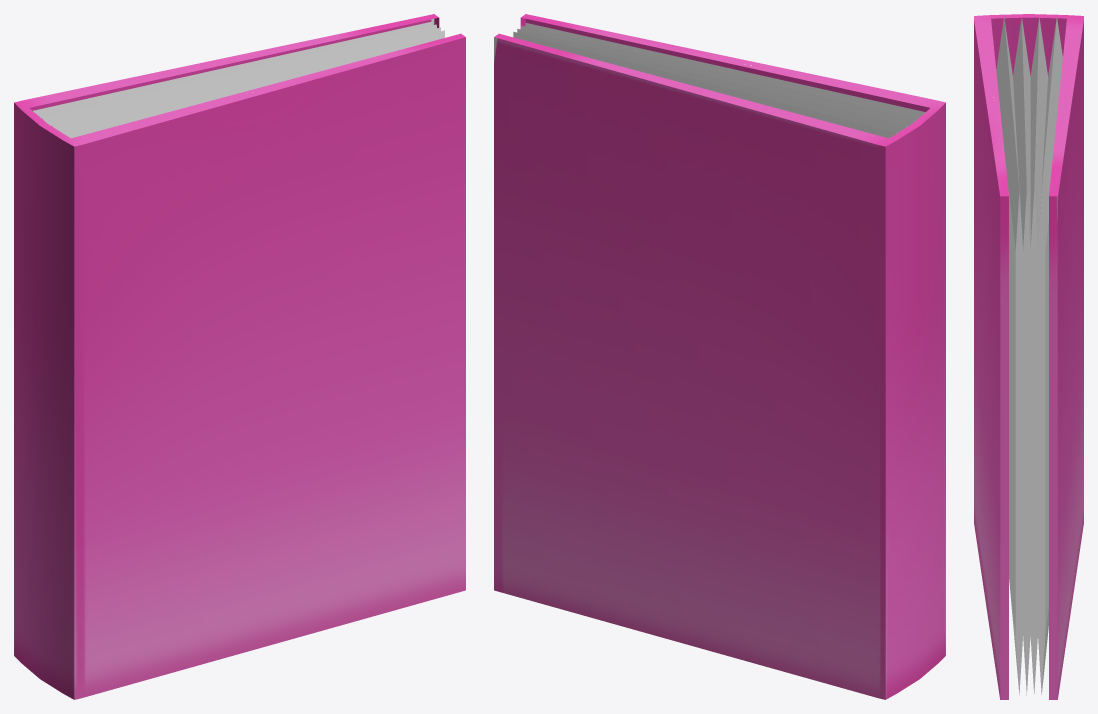
File: Book0.FBX
3 renders of one model, left to right at view 1: azimuth 30°, elevation 25°; view 2: azimuth 150°, elevation 25°; view 3: azimuth 270°, elevation 25°, orthographic. The views are drawn at different scales.
Visible parts, largest first — view 1: Box004; view 2: Box004; view 3: Box004.
Part boxes in pixels (box(x1,y1,x2,y2)): Box004: box(14, 14, 465, 699); Box004: box(494, 14, 945, 699); Box004: box(974, 14, 1083, 699).
Bounding box in the file's own units: 15.13 × 19.59 × 3.86.
Materials: 1 (1 with a texture image).
